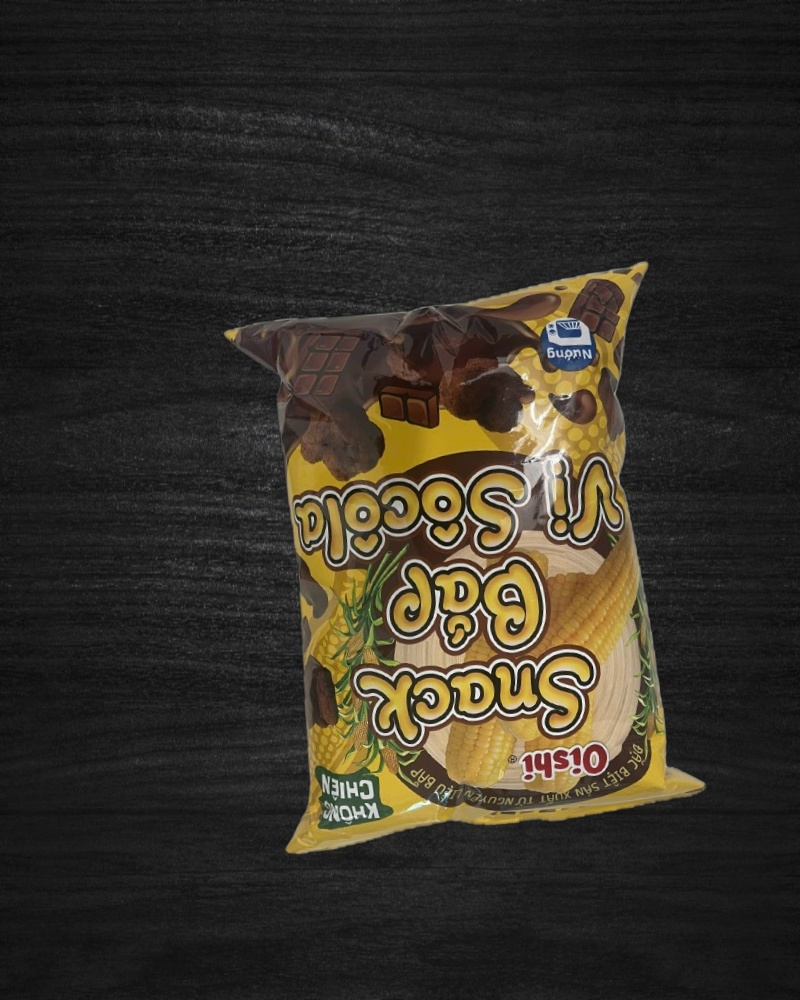Snack socola: (223, 263, 710, 855)
